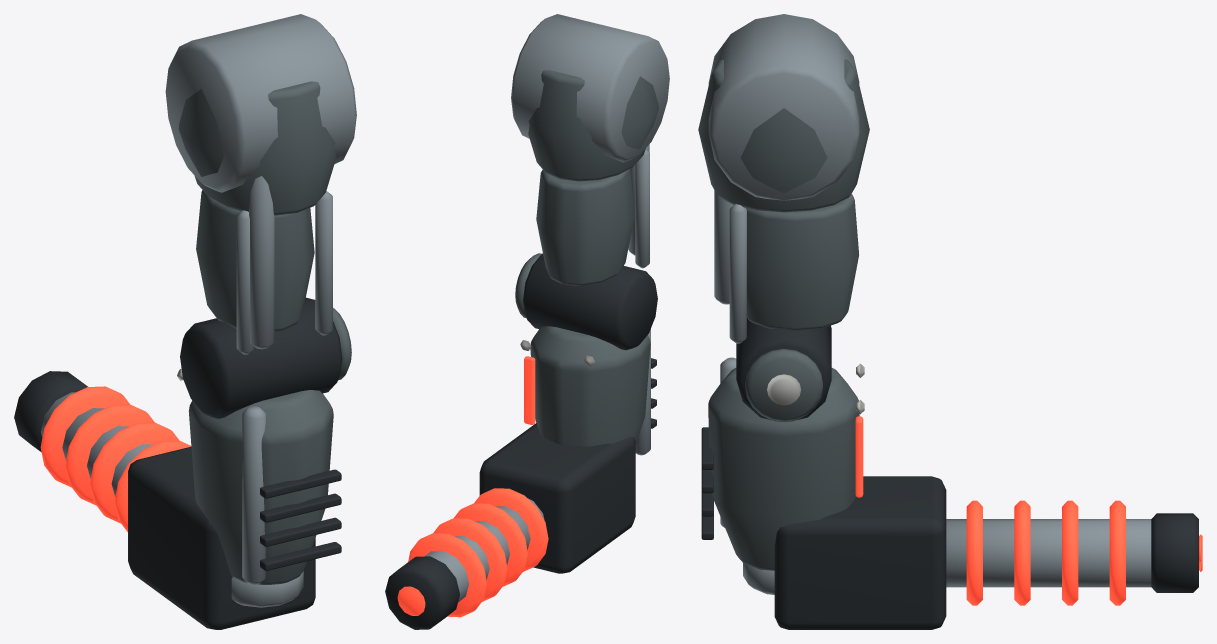
Rendered from arms_09.glb.
The picture shows the model from 3 angles, left to right: view 1: azimuth 30°, elevation 25°; view 2: azimuth 150°, elevation 25°; view 3: azimuth 270°, elevation 25°; orthographic projection. The views are drawn at different scales.
Visible parts, largest first — view 1: Forearm.008_Geometry, UpperArm.008_Geometry, Shoulder bearing.008; view 2: Forearm.008_Geometry, UpperArm.008_Geometry, Shoulder bearing.008; view 3: Forearm.008_Geometry, UpperArm.008_Geometry, Shoulder bearing.008.
Boxes of the visible parts, <box> form: Forearm.008_Geometry: <box>14,308,351,629</box>; UpperArm.008_Geometry: <box>178,81,342,418</box>; Shoulder bearing.008: <box>165,14,356,192</box>; Forearm.008_Geometry: <box>385,253,656,629</box>; UpperArm.008_Geometry: <box>523,70,658,350</box>; Shoulder bearing.008: <box>511,14,669,162</box>; Forearm.008_Geometry: <box>701,349,1202,629</box>; UpperArm.008_Geometry: <box>698,59,869,422</box>; Shoulder bearing.008: <box>708,14,859,200</box>.
Size of the model in its own units: 0.1757 by 0.659 by 0.529.
